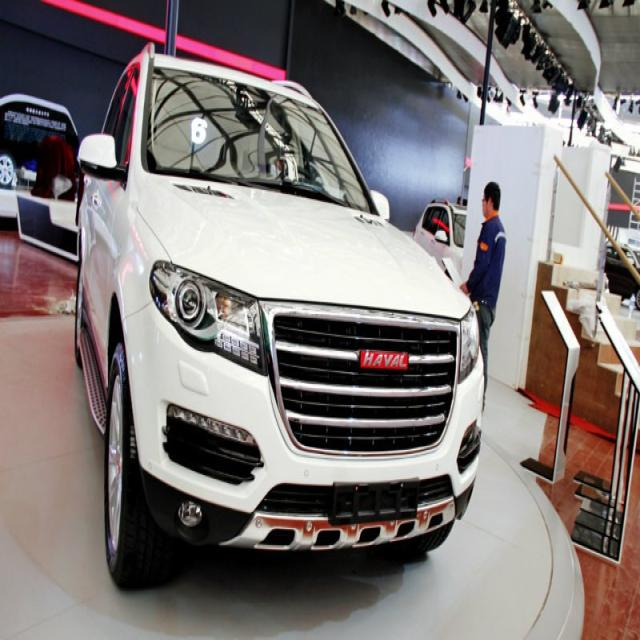front_bumper: (130, 308, 484, 544)
front_glass: (146, 67, 377, 219)
front_left_side_light: (454, 302, 481, 380)
front_left_side_mirror: (366, 186, 396, 223)
front_right_side_door: (87, 54, 146, 388)
front_right_side_light: (150, 252, 270, 380)
front_right_side_mirror: (75, 124, 121, 183)
wheel: (103, 351, 167, 590)
